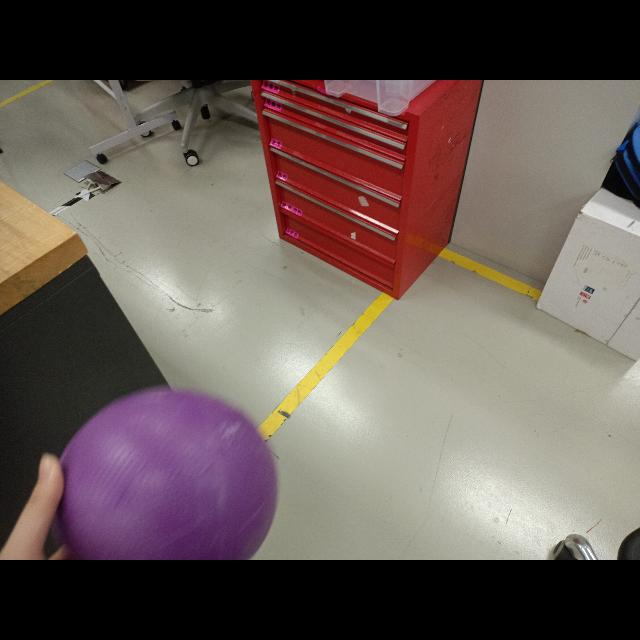P: (50, 386, 282, 560)
